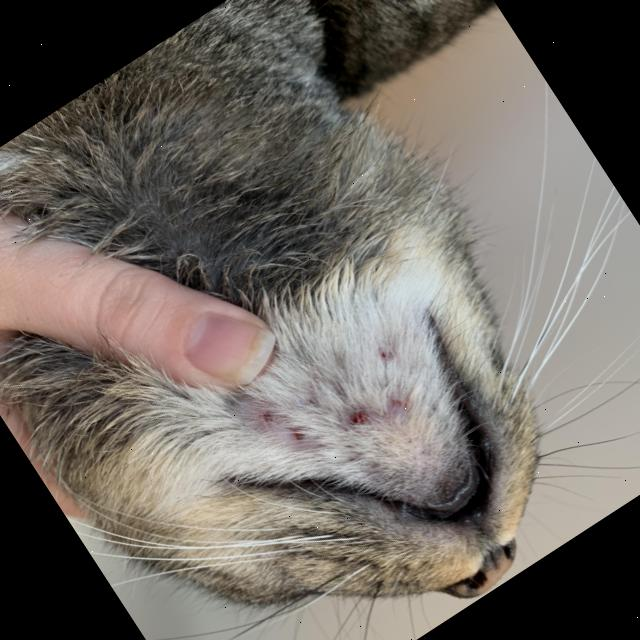cat-dermatitis: (344, 402, 374, 432), (373, 342, 398, 366), (256, 405, 278, 426), (386, 392, 406, 414), (290, 423, 308, 443)
